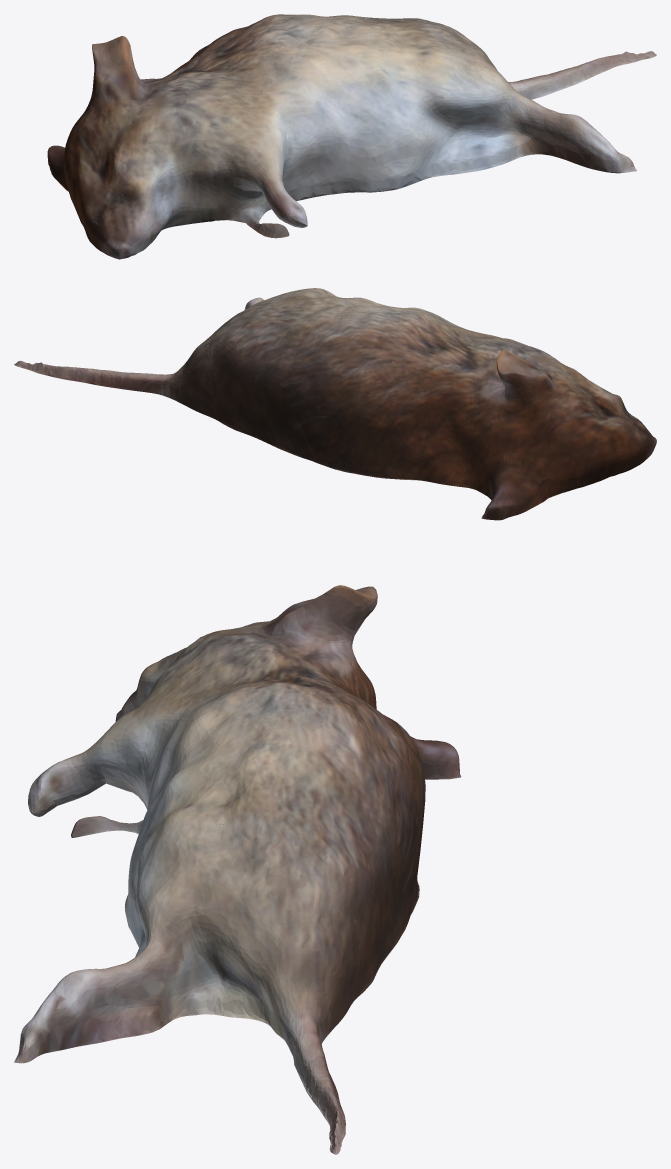
The model's file is rat.glb.
3 views of the same model, one above another, from view 1: azimuth 30°, elevation 25°; view 2: azimuth 150°, elevation 25°; view 3: azimuth 270°, elevation 25° (orthographic). The views are drawn at different scales.
Visible parts, largest first — view 1: Mesh_0_Material_0_0; view 2: Mesh_0_Material_0_0; view 3: Mesh_0_Material_0_0.
Part boxes in pixels (x1=…): Mesh_0_Material_0_0: x1=47, y1=14, x2=656, y2=259; Mesh_0_Material_0_0: x1=14, y1=288, x2=656, y2=520; Mesh_0_Material_0_0: x1=14, y1=585, x2=461, y2=1154.
Bounding box in the file's own units: 0.841 × 0.188 × 0.5333.
1 material, 1 textured.
